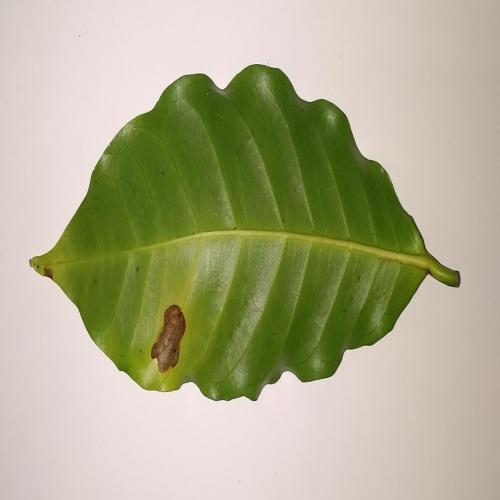miner: (42, 267, 54, 282)
